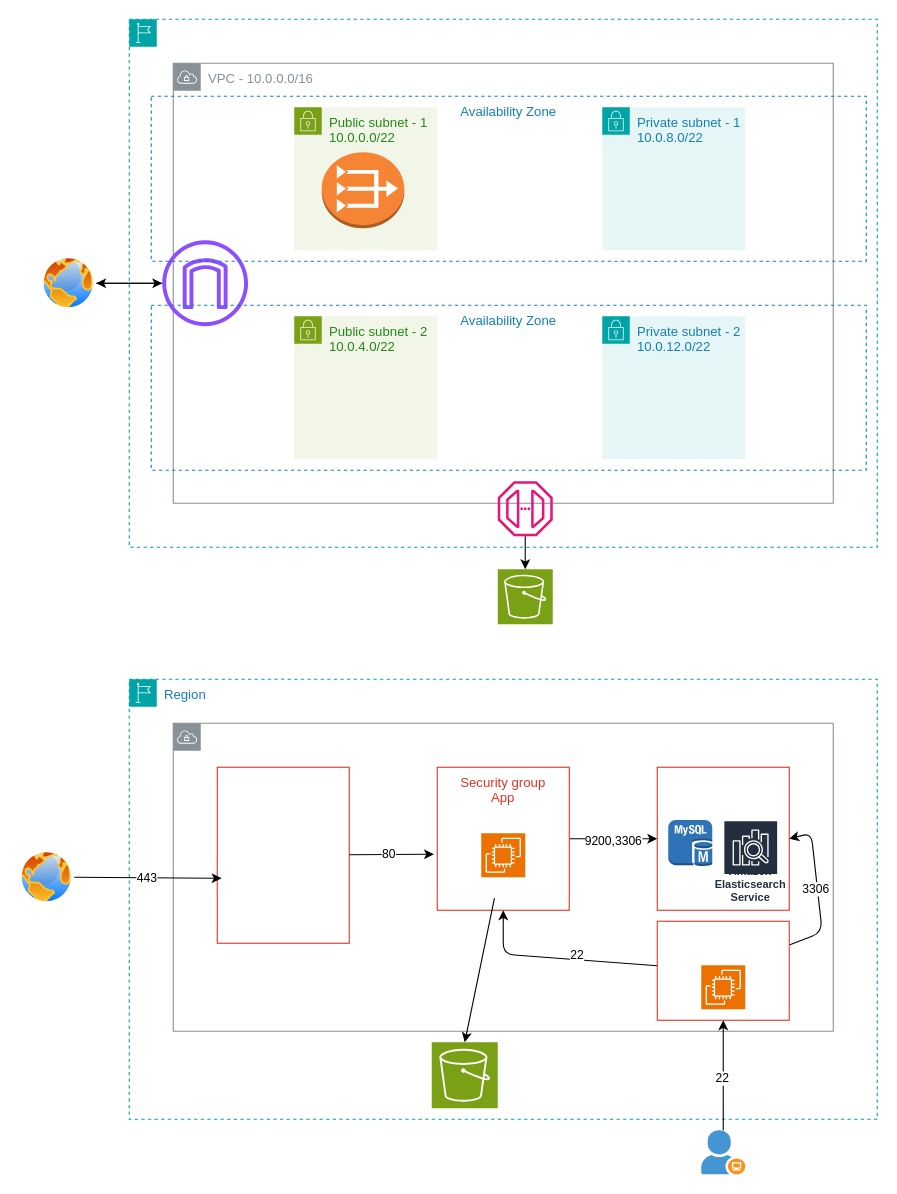
The diagram is 897 pixels wide and 1194 high, and some of its shapes have lost their labels. Each missing label, with the box of its shape:
Region - Singapore: (128, 18, 877, 547)
Security group Bastion: (656, 920, 789, 1020)
Security group Database: (656, 766, 789, 910)
Security group Public: (216, 766, 349, 943)
VPC: (172, 722, 833, 1031)
